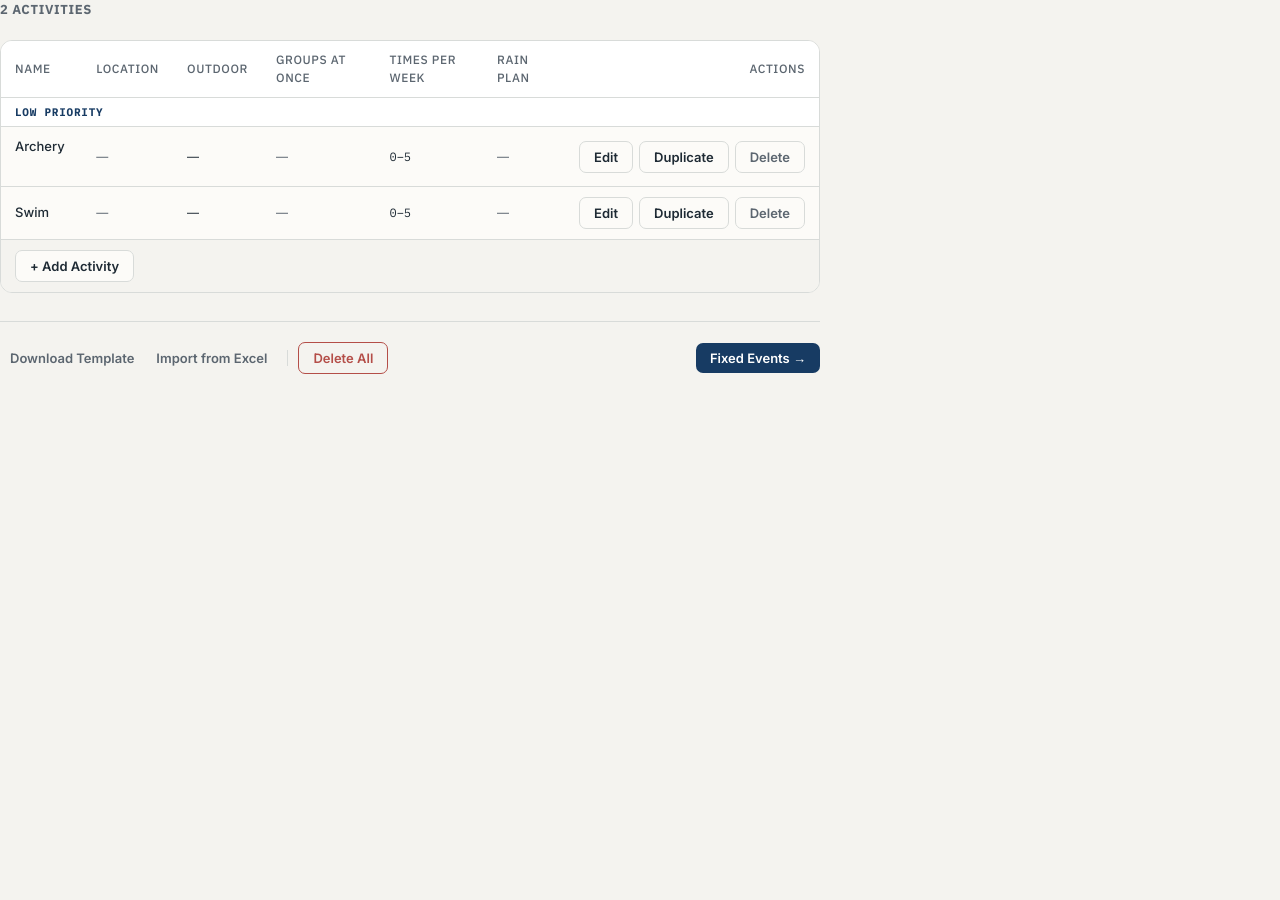
it: ActivitiesScreen — delete all › re-fetches activities immediately before deleting, then reports partial failure
The width and height of the screenshot is (1280, 900).
expect the button "Archery" is shown: met, box [15,138,65,154]
Click the button "Delete All" at (343, 358), box [298,342,388,374]
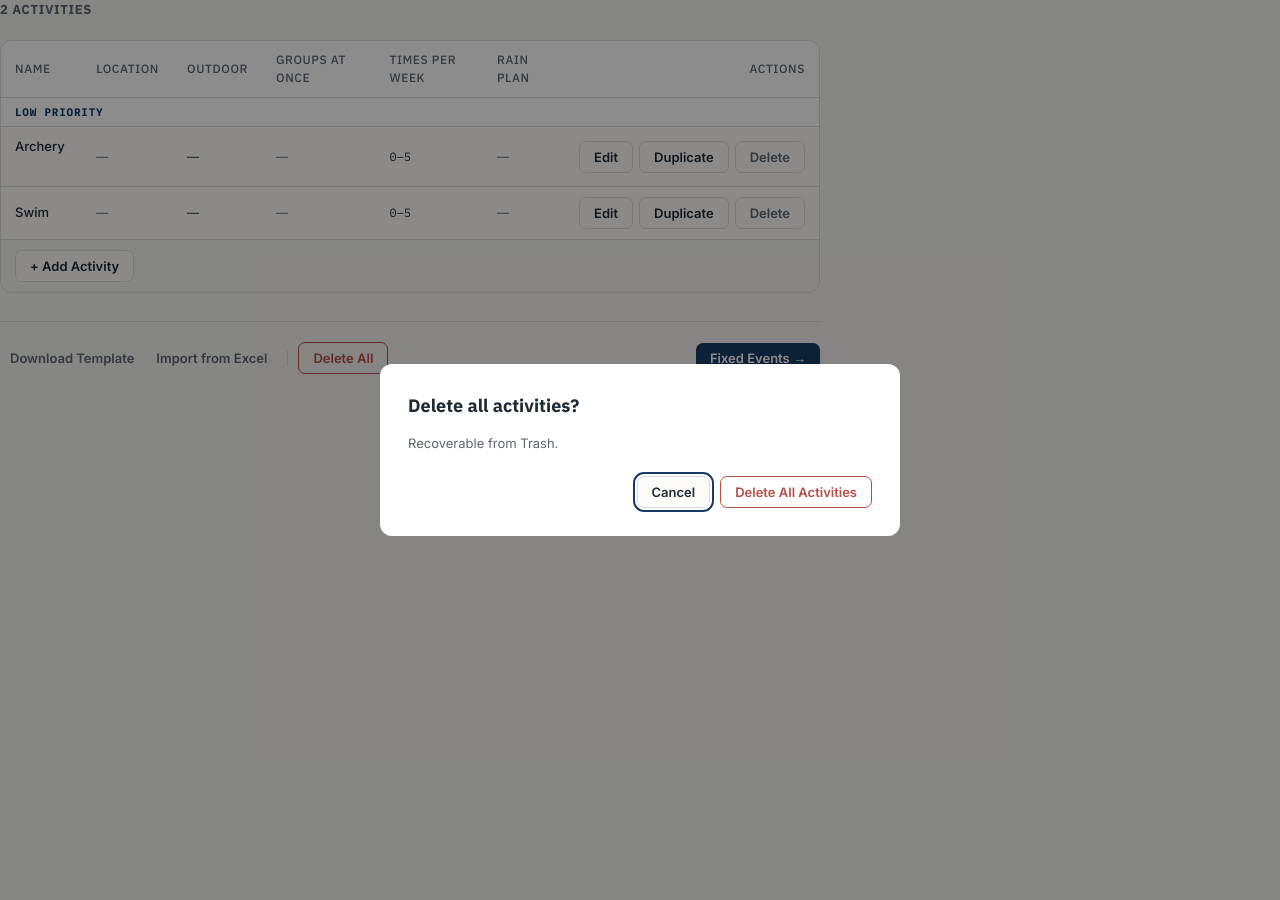
expect the text "Delete all activities?" is shown: met, box [408,394,579,417]
Click the button "Delete All Activities" at (796, 492), box [720,476,872,508]
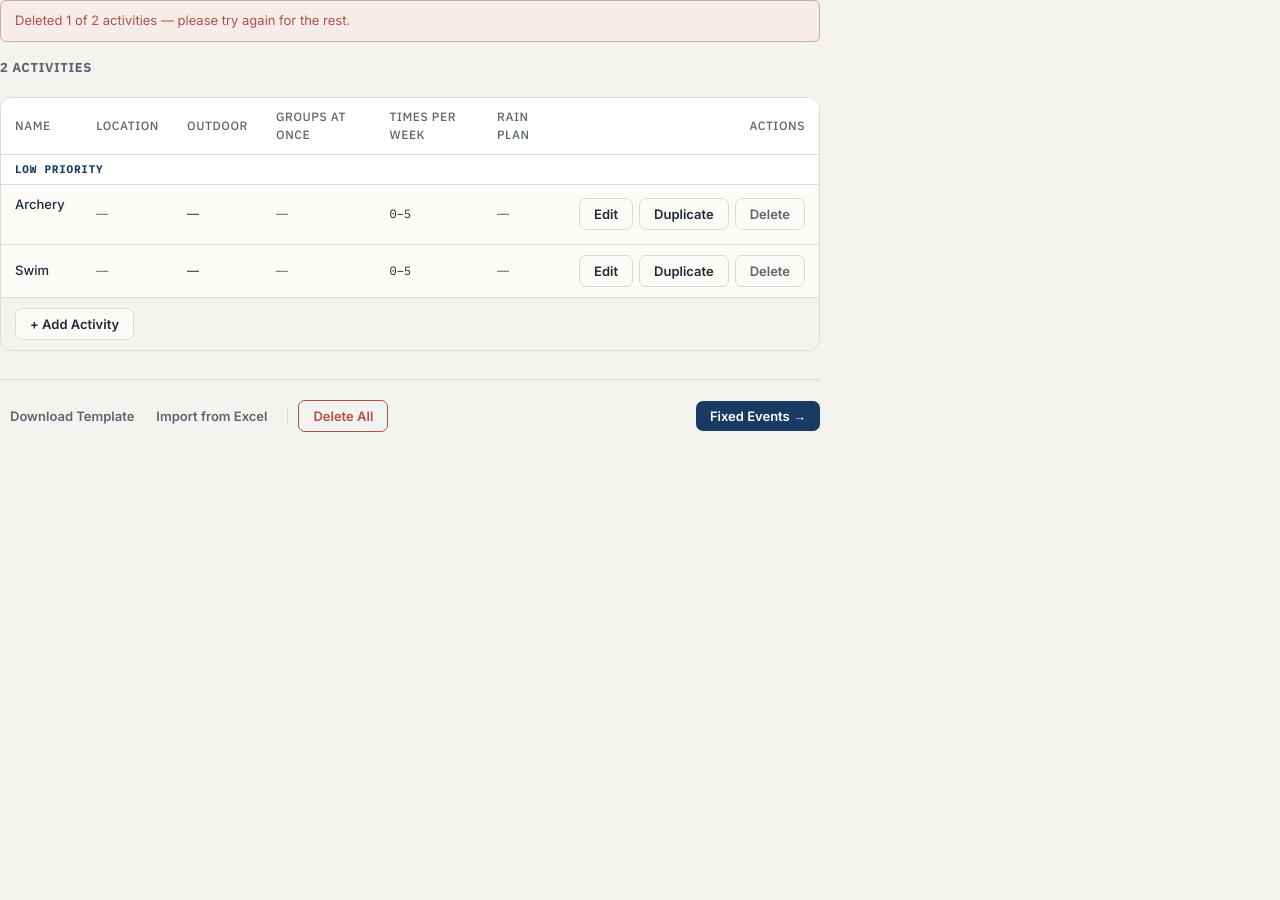
expect the text "Deleted 1 of 2 activities — please try again for the rest." is shown: met, box [0,0,820,42]
